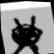not correct: (1, 9, 54, 54)
